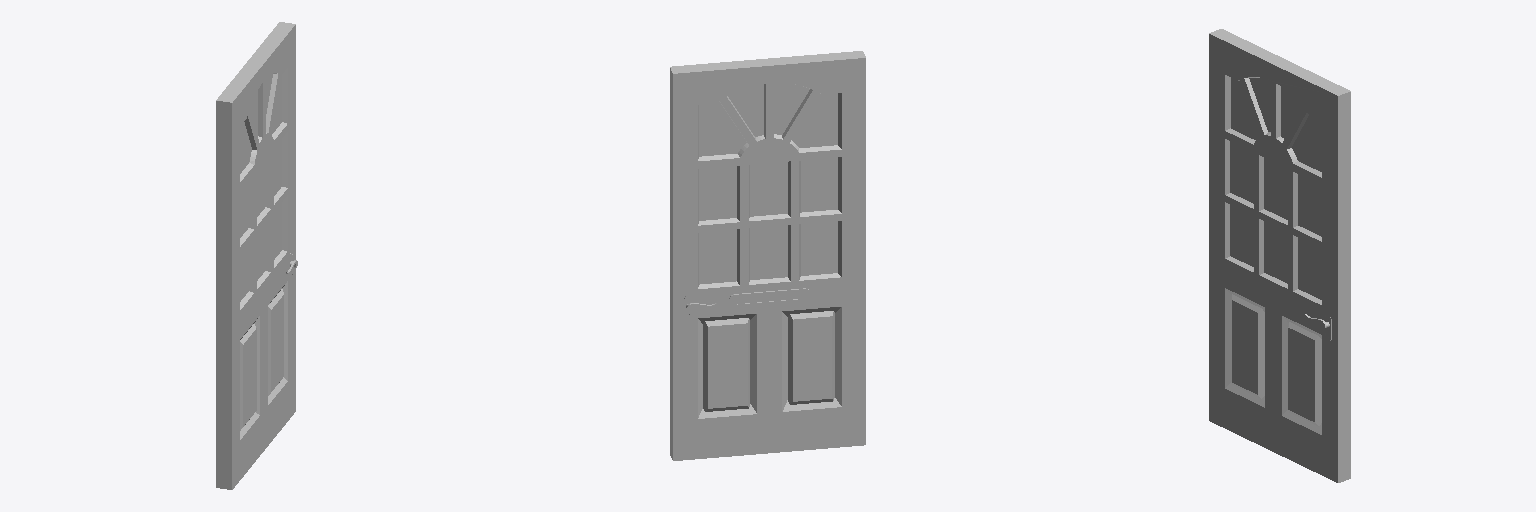
The model's file is door2_000010.obj.
3 renders of one model, left to right at view 1: azimuth 30°, elevation 25°; view 2: azimuth 150°, elevation 25°; view 3: azimuth 270°, elevation 25°, orthographic.
Visible parts, largest first — view 1: Door.000_Door.004; view 2: Door.000_Door.004; view 3: Door.000_Door.004.
Boxes of the visible parts, x1,y1,x2,y2 form: Door.000_Door.004: [216, 22, 297, 489]; Door.000_Door.004: [670, 51, 865, 460]; Door.000_Door.004: [1209, 29, 1350, 482].
Bounding box in the file's own units: 0.5997 × 1.6 × 0.5353.